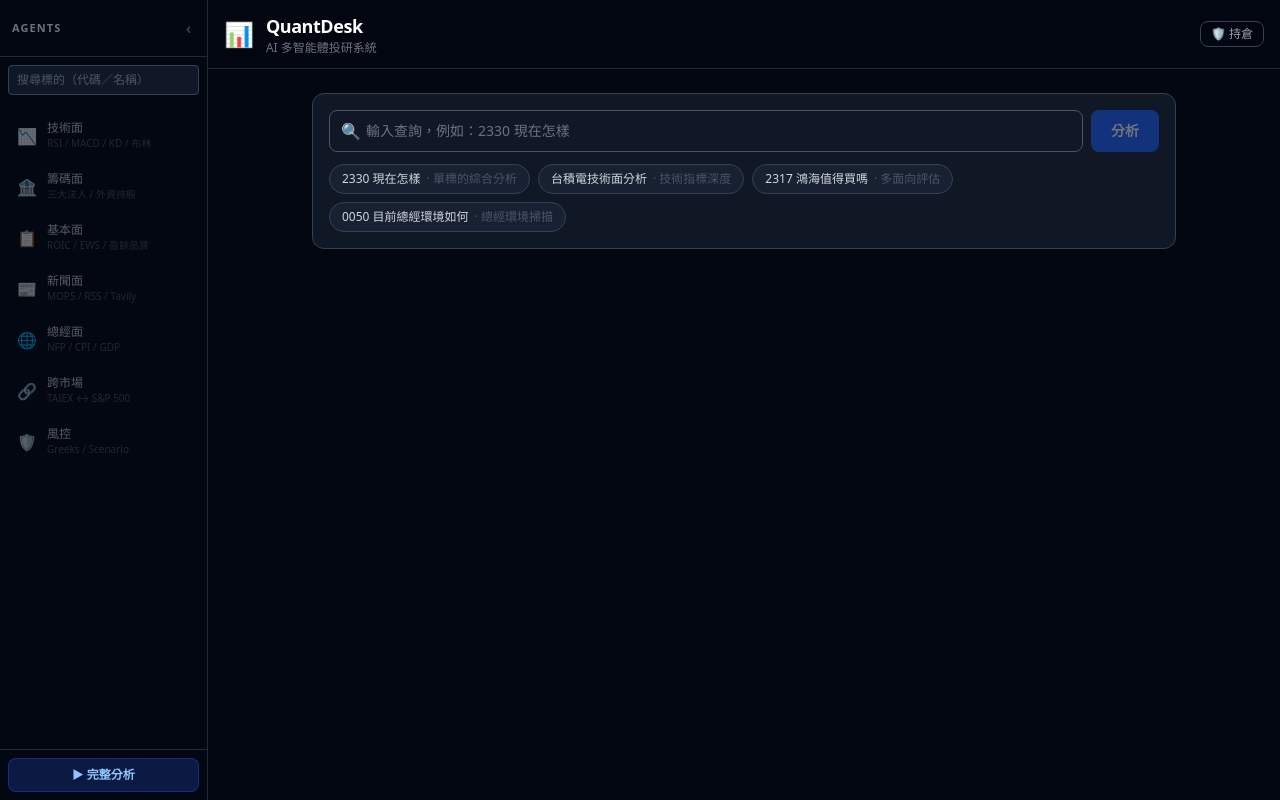
Scenario: 串流狀態呈現 › 連線中斷顯示可理解的訊息
The image size is (1280, 800).
Step 1. Type "2330" into the field with placeholder "輸入查詢，例如：2330 現在怎樣" → (706,131), box [329,110,1083,152]
Then press Enter
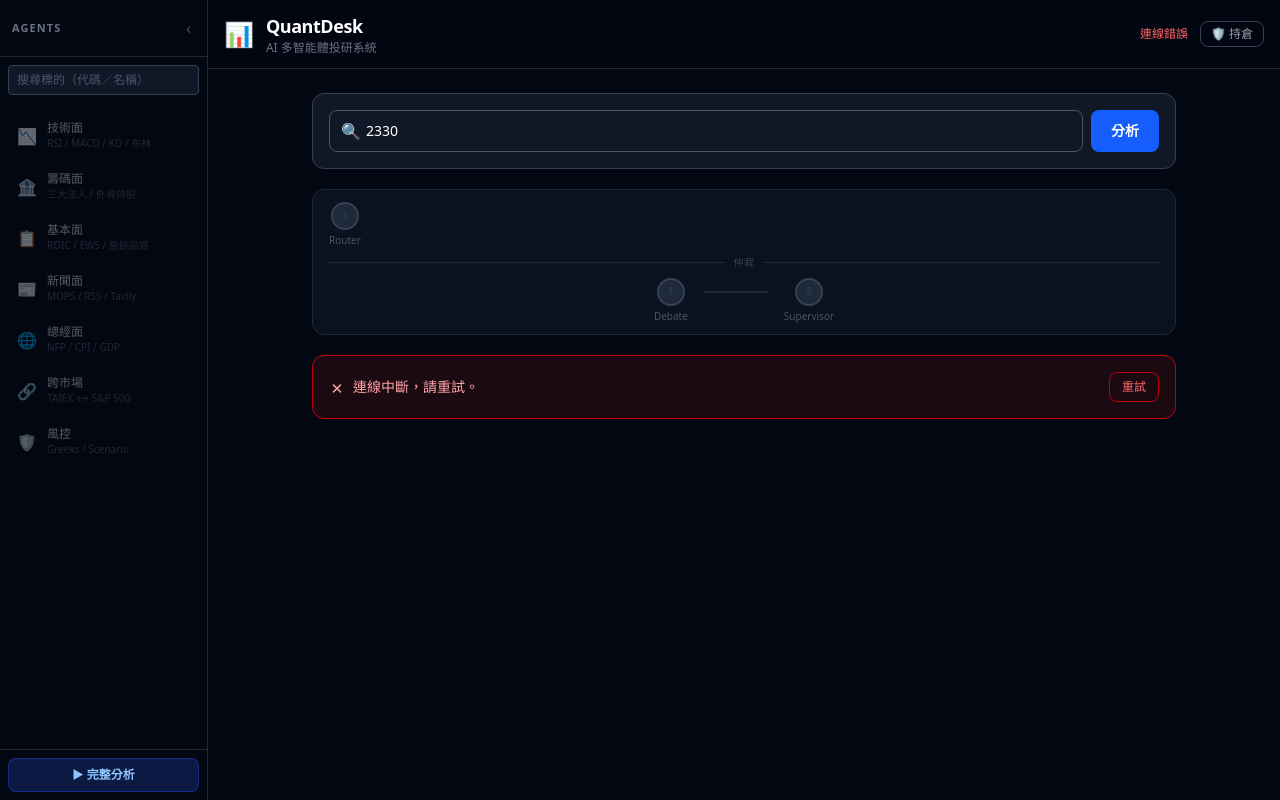
Check: the text "連線中斷，請重試。" is shown, box [353,377,479,397]
